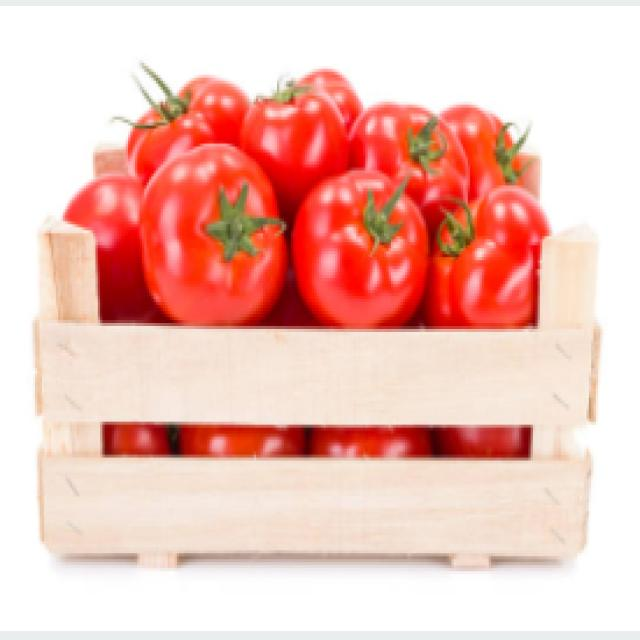Tomato: (137, 142, 293, 338), (299, 144, 426, 332), (425, 174, 530, 339), (367, 67, 478, 214)
